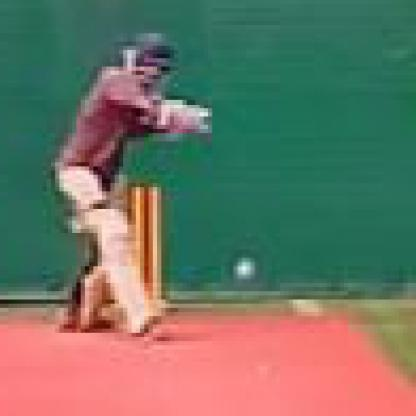ball: (225, 250, 266, 288)
